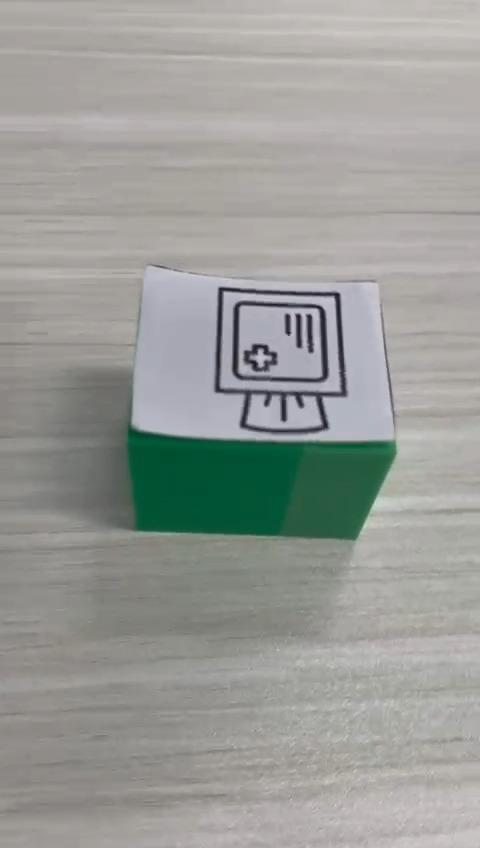Gauze: (125, 262, 398, 541)
